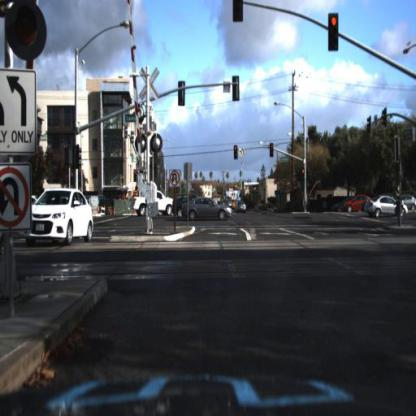car: (24, 189, 94, 249), (181, 196, 231, 227), (130, 190, 175, 221), (367, 196, 409, 219), (345, 193, 375, 216)
trafficLight: (8, 2, 46, 58), (233, 2, 245, 23)
trafficLight-Red: (328, 13, 340, 52), (269, 140, 277, 161), (301, 165, 307, 186), (233, 142, 239, 162)
